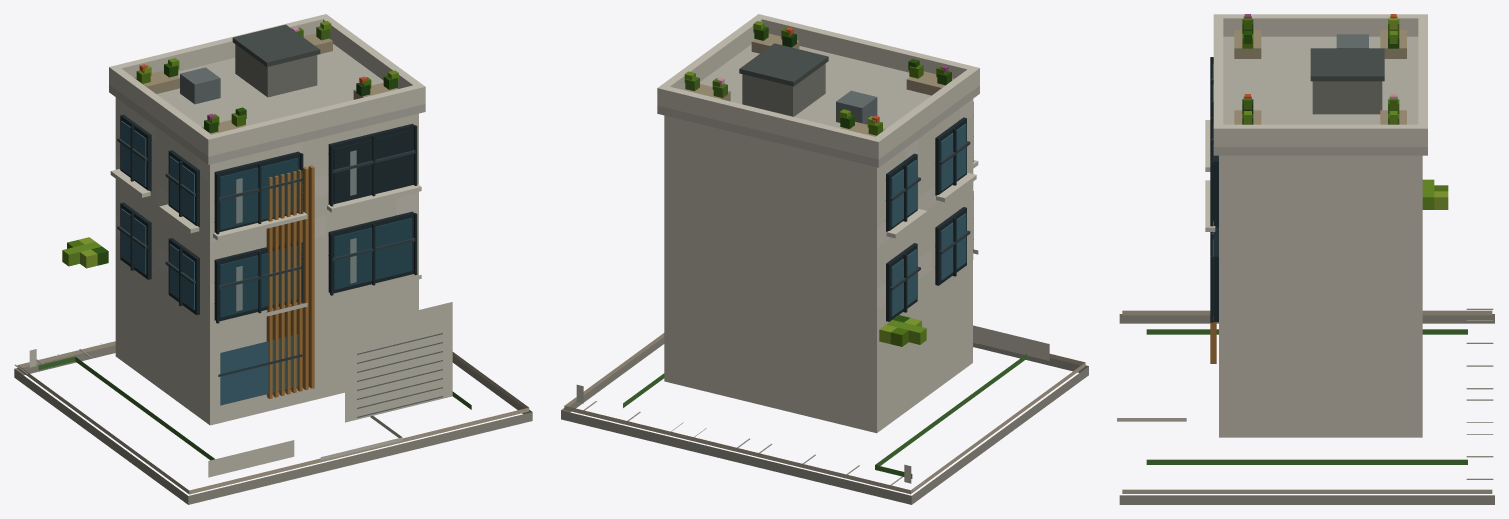
The model's file is SM_StreetFrontage_011.fbx.
3 renders of one model, left to right at view 1: azimuth 30°, elevation 25°; view 2: azimuth 150°, elevation 25°; view 3: azimuth 270°, elevation 25°, orthographic. The views are drawn at different scales.
Visible parts, largest first — view 1: SM_StreetFrontage_011; view 2: SM_StreetFrontage_011; view 3: SM_StreetFrontage_011.
Boxes of the visible parts, bbox=[...] form: SM_StreetFrontage_011: bbox=[14, 14, 532, 504]; SM_StreetFrontage_011: bbox=[561, 14, 1088, 504]; SM_StreetFrontage_011: bbox=[1117, 14, 1494, 504].
Size of the model in its own units: 7.94 by 6.99 by 7.42.
